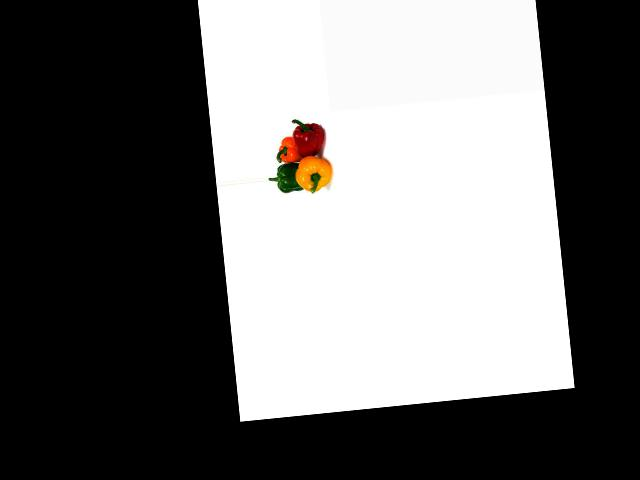bell_pepper: (293, 152, 335, 197)
